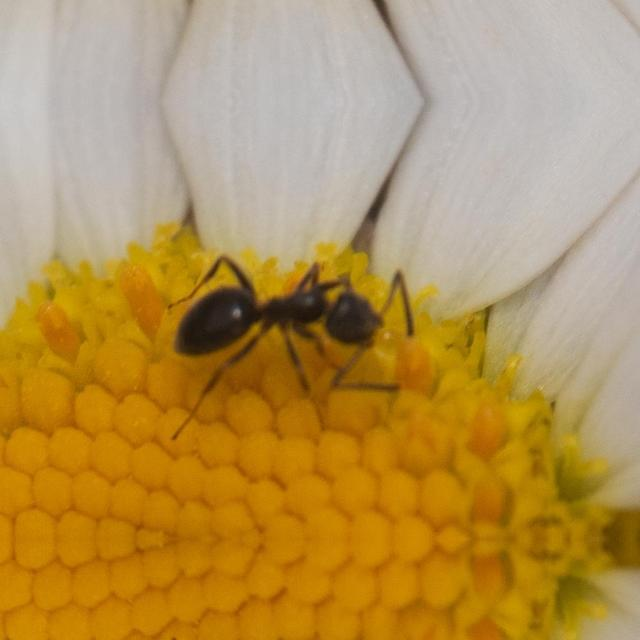Tapinoma: (158, 248, 412, 372)
